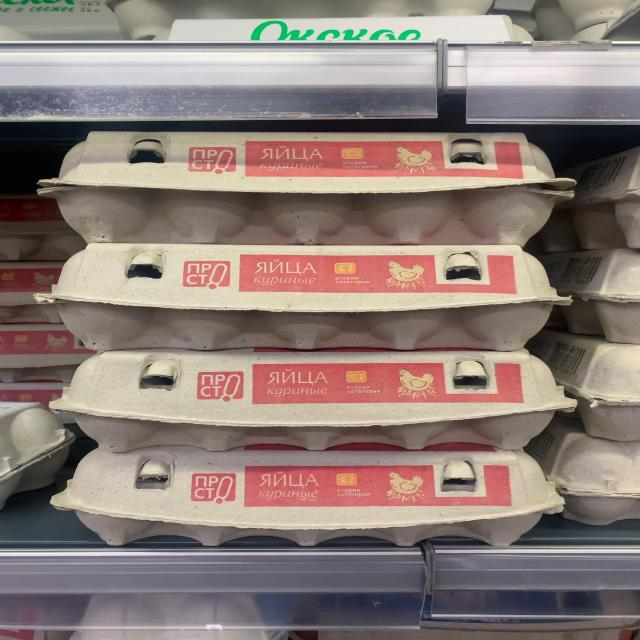egg box: (37, 129, 577, 252), (30, 240, 570, 352), (44, 346, 577, 453), (48, 442, 567, 549)
